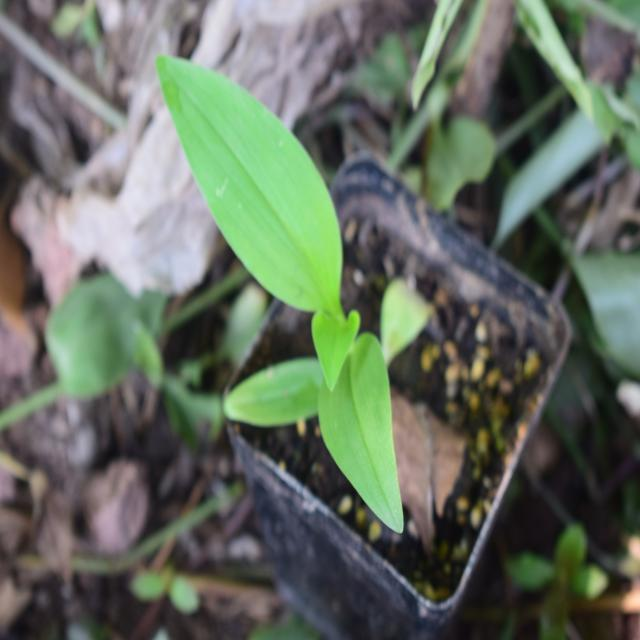Common Dayflower: (142, 49, 419, 543)
